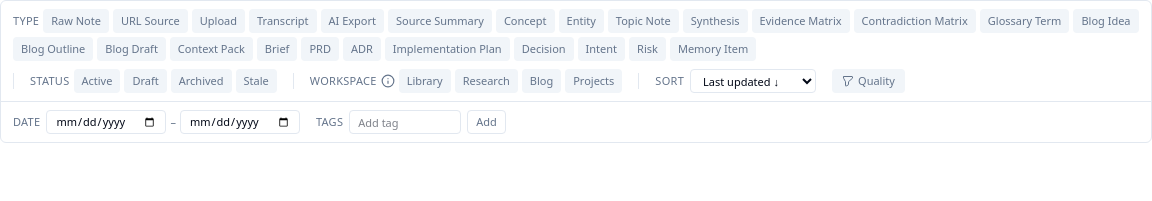
Test case: LibraryFilterBar — Lens Filter Panel (P4-09) › expands lens panel when Lens button is clicked
Click the button with aria-label "expand lens filters".
click(868, 81)  # box [832,69,905,93]
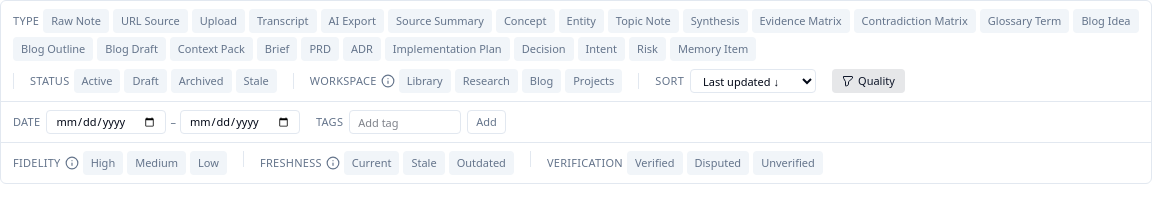
Now the element named "lens filters" is shown, box [1,142,1151,183]
